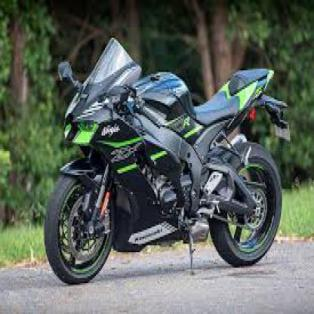Motocicleta: (42, 37, 292, 290)
